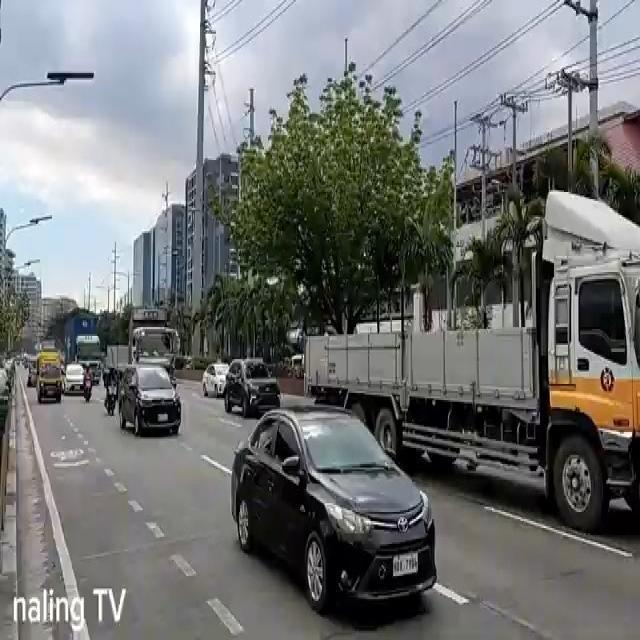car: (230, 411, 437, 614), (118, 364, 181, 438), (224, 358, 281, 419)
motorcycle: (104, 367, 118, 417), (84, 361, 95, 403)
truck: (304, 192, 640, 528), (130, 328, 181, 388), (63, 314, 101, 384)
